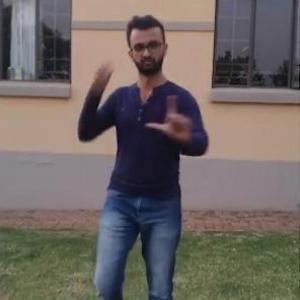land_hand: (146, 89, 199, 142)
